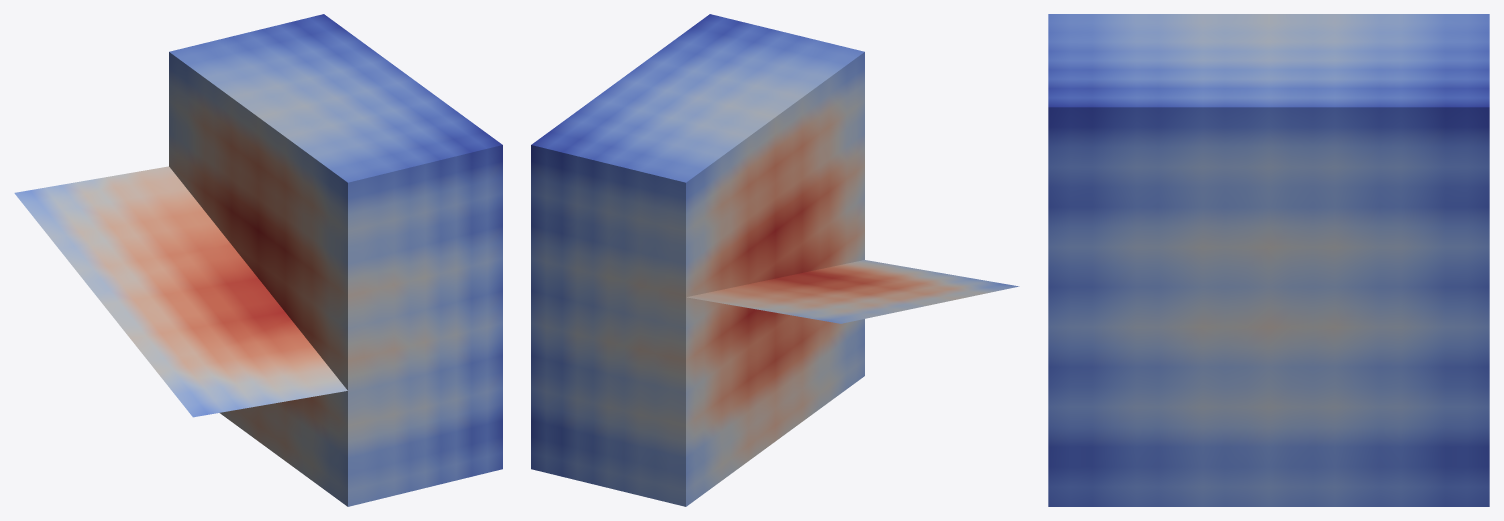
The model's file is ImportThisToUnity.fbx.
The picture shows the model from 3 angles, left to right: view 1: azimuth 30°, elevation 25°; view 2: azimuth 150°, elevation 25°; view 3: azimuth 270°, elevation 25°; orthographic projection. The views are drawn at different scales.
Visible parts, largest first — view 1: Shape_IndexedFaceSet.001, Shape_IndexedFaceSet; view 2: Shape_IndexedFaceSet.001, Shape_IndexedFaceSet; view 3: Shape_IndexedFaceSet.001.
Part boxes in pixels (left/top/right/bottom): Shape_IndexedFaceSet.001: left=169, top=14, right=502, bottom=506; Shape_IndexedFaceSet: left=14, top=166, right=347, bottom=417; Shape_IndexedFaceSet.001: left=531, top=14, right=864, bottom=506; Shape_IndexedFaceSet: left=687, top=260, right=1019, bottom=323; Shape_IndexedFaceSet.001: left=1048, top=14, right=1489, bottom=506.
Size of the model in its own units: 2000 by 2000 by 2000.
